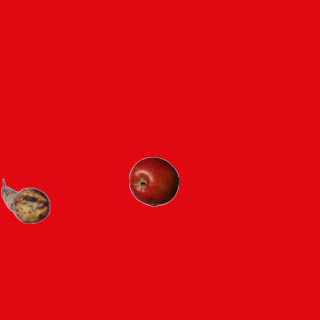Apple Braeburn: (128, 156, 178, 206)
Pear Abate: (0, 176, 50, 226)
